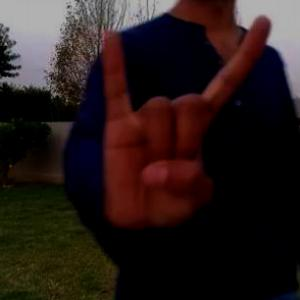takeoff-hand: (92, 6, 280, 243)
